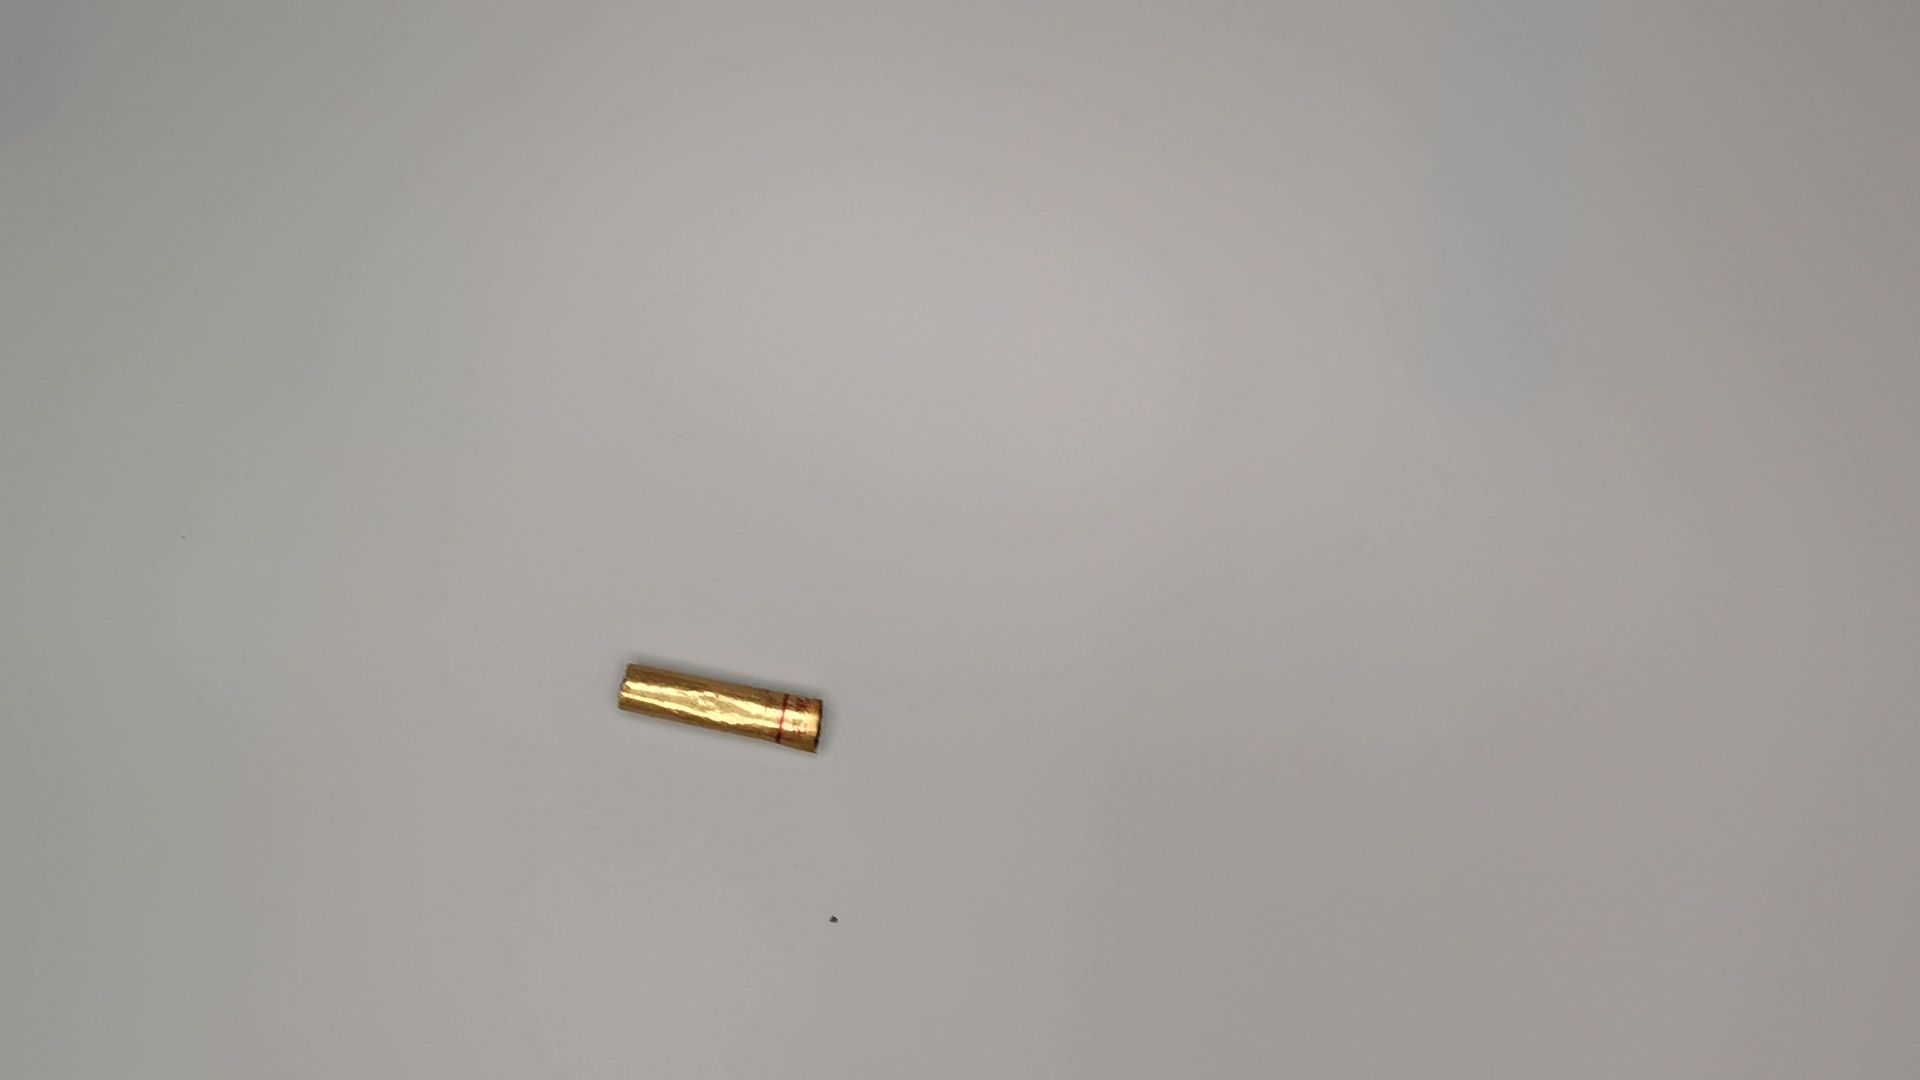cigarette: (603, 651, 829, 757)
